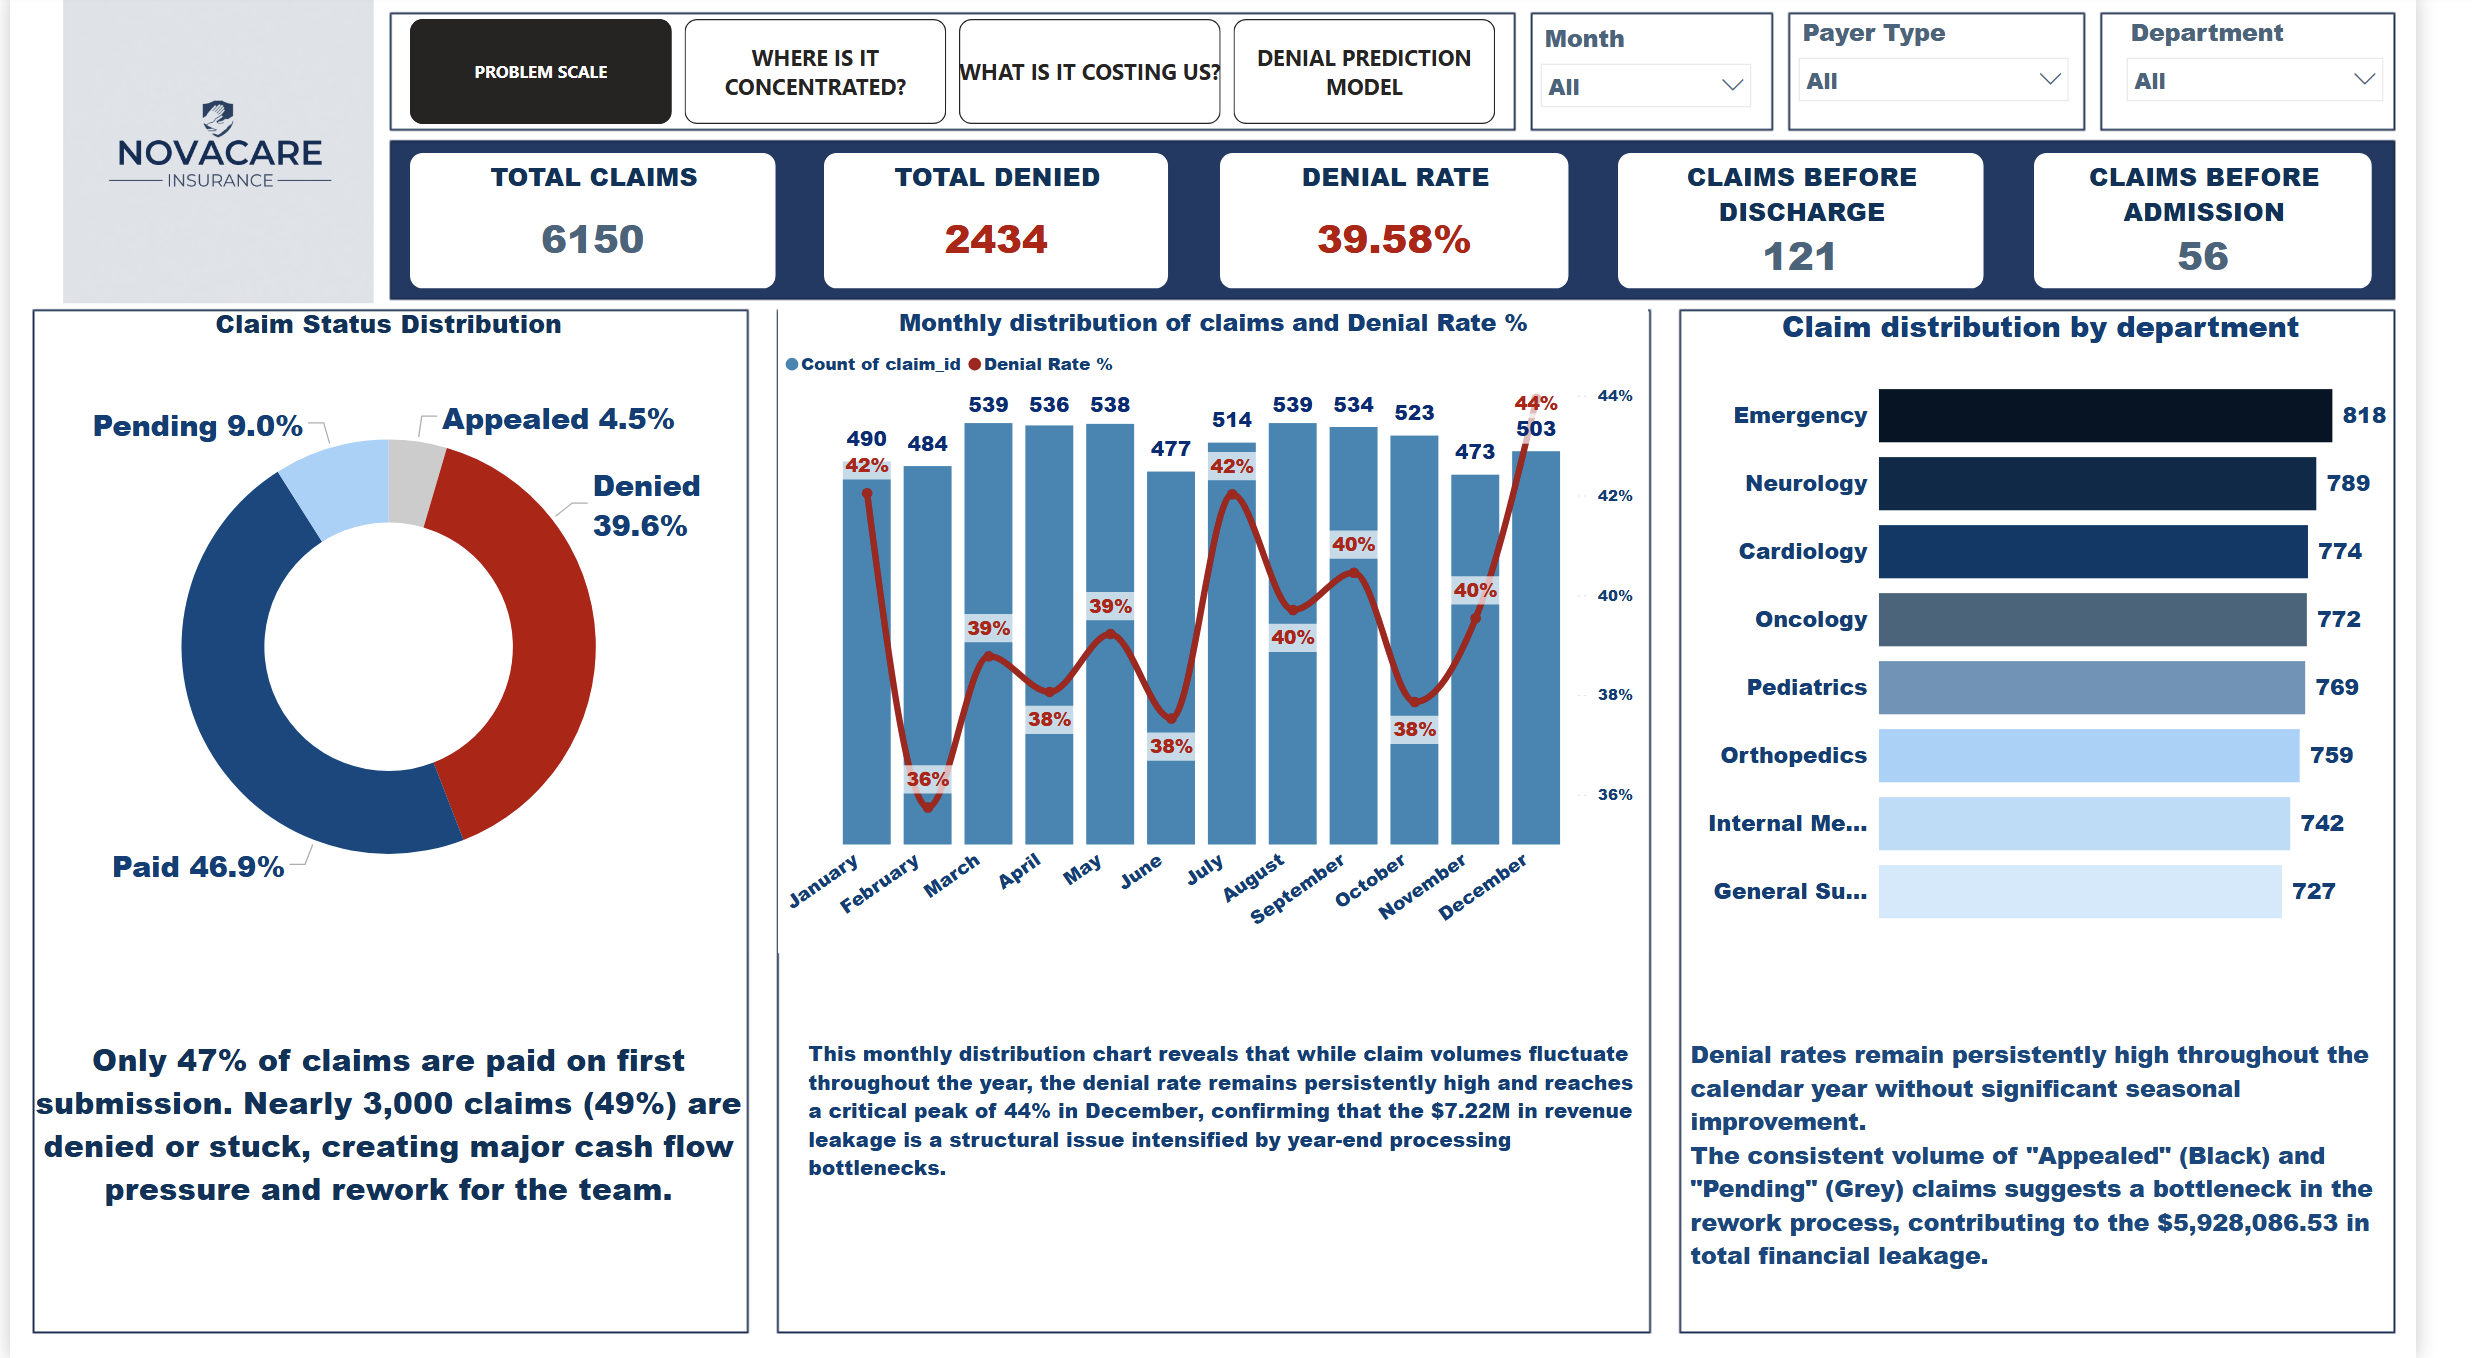

What the dashboard file says about the page in this screenshot:
{"tool":"powerbi","page":{"name":"PROBLEM SCALE","canvas":[1902,1080],"ordinal":0},"visuals":[{"type":"card","title":"TOTAL CLAIMS","fields":{"Values":["CountNonNull(claims output.claim_id)"]},"box":[315.6,126.9,288.9,107],"z":0},{"type":"card","title":"TOTAL DENIED","fields":{"Values":["Sum(claims output.Denial_flag)"]},"box":[644.1,126.9,272.2,107],"z":1000},{"type":"card","title":"DENIAL RATE","fields":{"Values":["claims output.Denial Rate %"]},"box":[955.9,126.9,275.5,107],"z":2000},{"type":"card","title":"CLAIMS BEFORE DISCHARGE","fields":{"Values":["Sum(claims output.claim_before_discharge)"]},"box":[1271.1,126.9,288.9,107],"z":3000},{"type":"card","title":"CLAIMS BEFORE ADMISSION","fields":{"Values":["Sum(claims output.Before admission)"]},"box":[1599.6,126.9,267.2,107],"z":4000},{"type":"donutChart","title":"Claim Status Distribution","fields":{"Category":["claims output.claim_status"],"Y":["CountNonNull(claims output.claim_status)"]},"box":[15,246.5,570.3,512.4],"z":5000},{"type":"textbox","box":[15,821.1,570.3,235.8],"z":6000},{"type":"barChart","title":"Claim distribution by department","fields":{"Category":["claims output.department"],"Y":["CountNonNull(claims output.claim_id)"]},"box":[1322.8,246.5,563.8,512.4],"z":7000},{"type":"textbox","box":[1322.8,821.1,553.1,235.8],"z":8000},{"type":"slicer","fields":{"Values":["claims output.claim_submission_date.Variation.Date Hierarchy.Month"]},"box":[1200.6,17.2,186.5,90],"z":9000},{"type":"slicer","fields":{"Values":["claims output.payer_type"]},"box":[1404.2,12.9,233.7,94.3],"z":10000},{"type":"slicer","fields":{"Values":["claims output.department"]},"box":[1663.6,12.9,223,92.2],"z":11000},{"type":"image","box":[30.2,0,269.4,245.7],"z":12000},{"type":"pageNavigator","box":[315.9,21.3,858.1,83.3],"z":13000},{"type":"textbox","box":[626.1,821.6,667.8,164.7],"z":14000},{"type":"lineClusteredColumnComboChart","title":"Monthly distribution of claims and Denial Rate %","fields":{"Category":["claims output.claim_submission_date.Variation.Date Hierarchy.Month"],"Y":["CountNonNull(claims output.claim_id)"],"Y2":["claims output.Denial Rate %"]},"box":[606.7,246.5,688.2,512.4],"z":15000}]}

Visuals, with their boxes on the page's 1902x1080 design canvas (x1, y1, x2, y2). These are canvas units, not pixel positions in the 2472x1358 screenshot, which may show the page scaled, cropped or inside an application window:
"TOTAL CLAIMS" card: (x1=316, y1=127, x2=604, y2=234)
"TOTAL DENIED" card: (x1=644, y1=127, x2=916, y2=234)
"DENIAL RATE" card: (x1=956, y1=127, x2=1231, y2=234)
"CLAIMS BEFORE DISCHARGE" card: (x1=1271, y1=127, x2=1560, y2=234)
"CLAIMS BEFORE ADMISSION" card: (x1=1600, y1=127, x2=1867, y2=234)
"Claim Status Distribution" donutChart: (x1=15, y1=246, x2=585, y2=759)
textbox: (x1=15, y1=821, x2=585, y2=1057)
"Claim distribution by department" barChart: (x1=1323, y1=246, x2=1887, y2=759)
textbox: (x1=1323, y1=821, x2=1876, y2=1057)
slicer - claims output.claim_submission_date.Variation.Date Hierarchy.Month: (x1=1201, y1=17, x2=1387, y2=107)
slicer - claims output.payer_type: (x1=1404, y1=13, x2=1638, y2=107)
slicer - claims output.department: (x1=1664, y1=13, x2=1887, y2=105)
image: (x1=30, y1=0, x2=300, y2=246)
pageNavigator: (x1=316, y1=21, x2=1174, y2=105)
textbox: (x1=626, y1=822, x2=1294, y2=986)
"Monthly distribution of claims and Denial Rate %" lineClusteredColumnComboChart: (x1=607, y1=246, x2=1295, y2=759)
